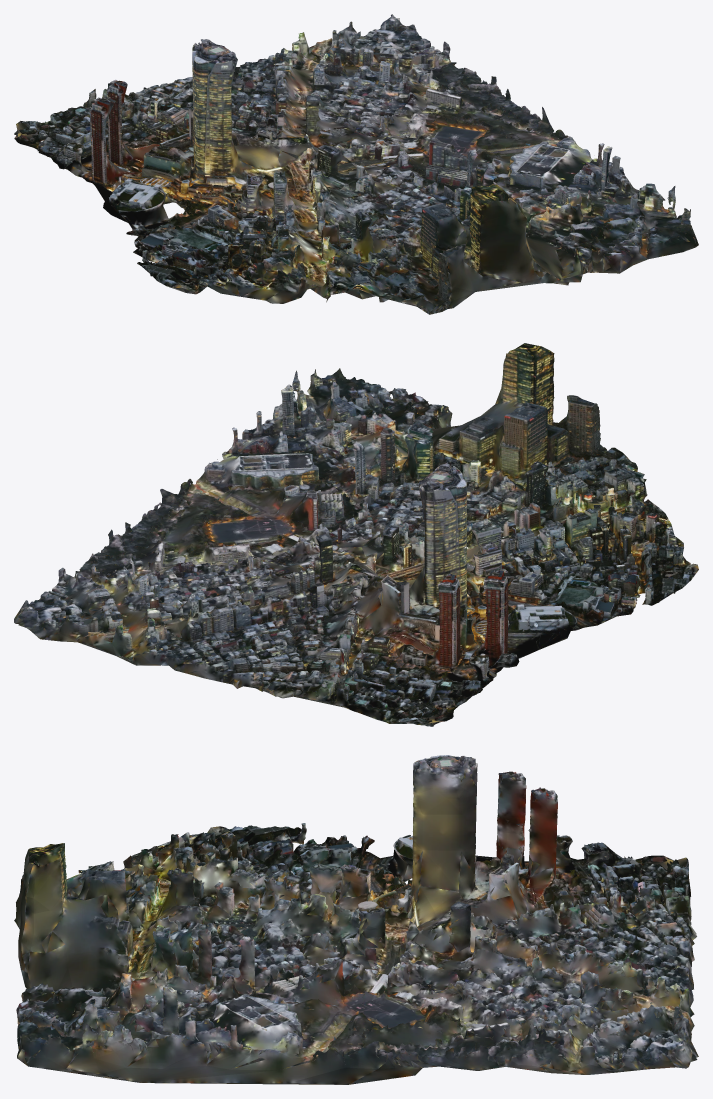
Rendered from osaka_downtown_lo.glb.
3 renders of one model, top to bottom at view 1: azimuth 30°, elevation 25°; view 2: azimuth 150°, elevation 25°; view 3: azimuth 270°, elevation 25°, orthographic. The views are drawn at different scales.
Visible parts, largest first — view 1: meshNode_Material_u1_v1_0; view 2: meshNode_Material_u1_v1_0; view 3: meshNode_Material_u1_v1_0.
Boxes of the visible parts, x1=… form: meshNode_Material_u1_v1_0: x1=14, y1=14, x2=698, y2=314; meshNode_Material_u1_v1_0: x1=14, y1=343, x2=698, y2=726; meshNode_Material_u1_v1_0: x1=14, y1=755, x2=698, y2=1084.
Bounding box in the file's own units: 49.04 × 16.78 × 58.84.
1 material, 1 textured.
